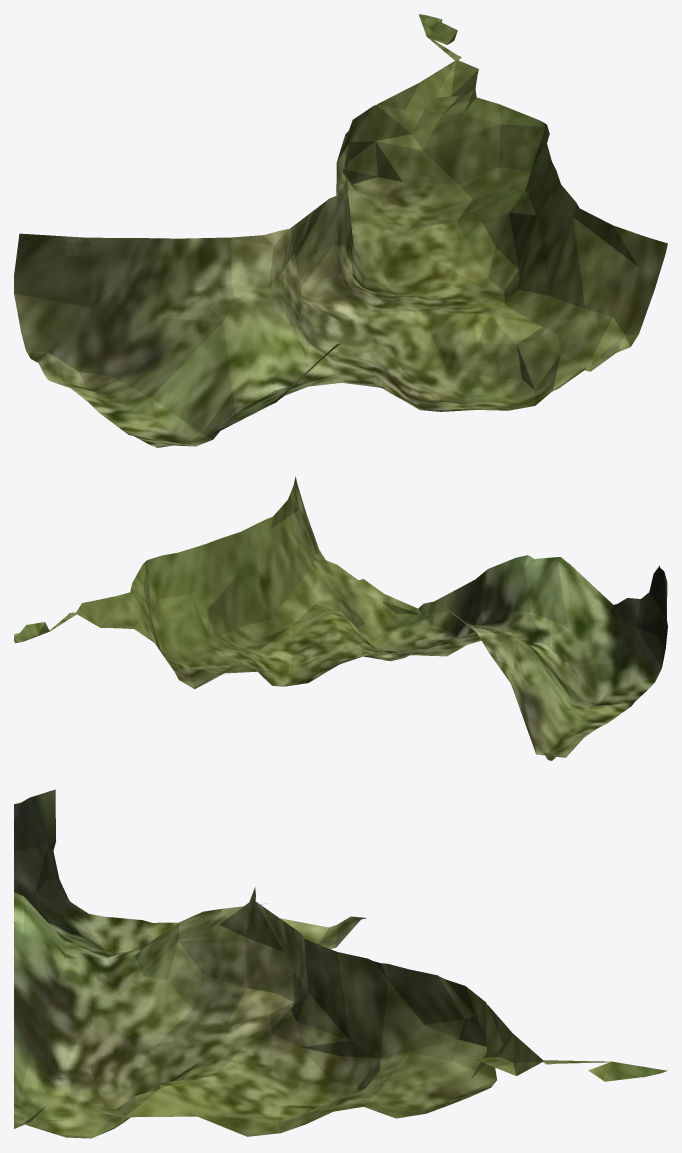
The picture shows the model from 3 angles, top to bottom: view 1: azimuth 30°, elevation 25°; view 2: azimuth 150°, elevation 25°; view 3: azimuth 270°, elevation 25°; orthographic projection. The views are drawn at different scales.
Size of the model in its own units: 2.36 by 0.6203 by 2.27.
1 material, 1 textured.
